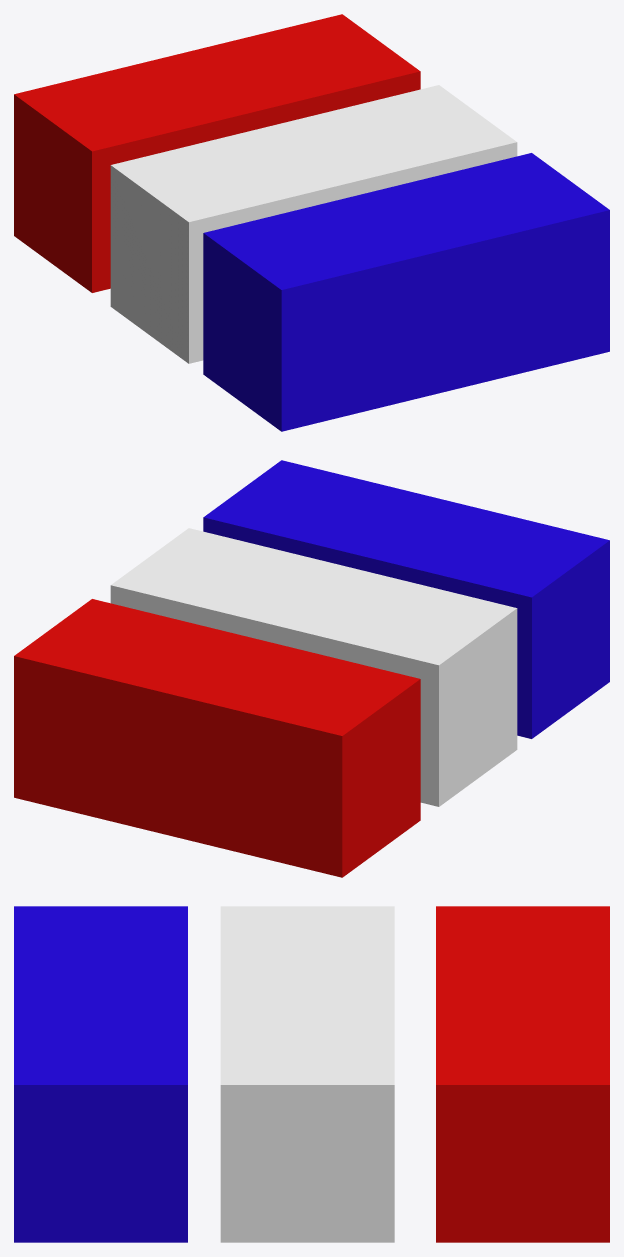
The model's file is frenchFlag.gltf.
The picture shows the model from 3 angles, top to bottom: view 1: azimuth 30°, elevation 25°; view 2: azimuth 150°, elevation 25°; view 3: azimuth 270°, elevation 25°; orthographic projection. The views are drawn at different scales.
Parts seen in each view (by area): view 1: Cube.002, Cube, Cube.001; view 2: Cube, Cube.001, Cube.002; view 3: Cube.001, Cube, Cube.002.
Boxes of the visible parts, <box> form: Cube.002: <box>203,153,609,431</box>; Cube: <box>14,14,420,292</box>; Cube.001: <box>110,85,517,363</box>; Cube: <box>14,599,420,877</box>; Cube.001: <box>110,528,517,806</box>; Cube.002: <box>203,460,609,738</box>; Cube.001: <box>220,906,394,1242</box>; Cube: <box>436,906,609,1242</box>; Cube.002: <box>14,906,187,1242</box>.
Size of the model in its own units: 4.85 by 2 by 6.85.
